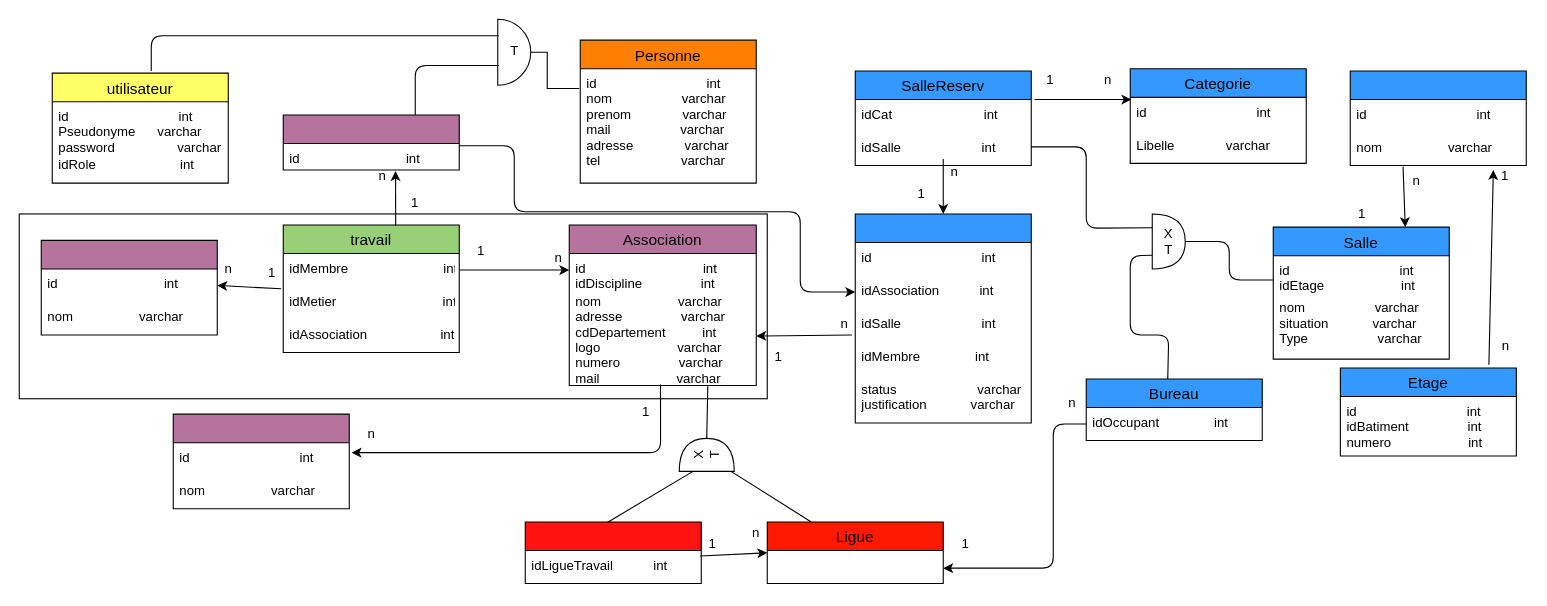
Image size: 1547x606. Some labels were removed from this diagram. Each missing label, with the box of its shape:
Batiment: (1349, 70, 1526, 166)
Comité: (524, 521, 701, 584)
Discipline: (172, 413, 349, 509)
Membre: (282, 114, 459, 170)
Metier: (40, 239, 217, 335)
Reservations: (854, 213, 1031, 423)
